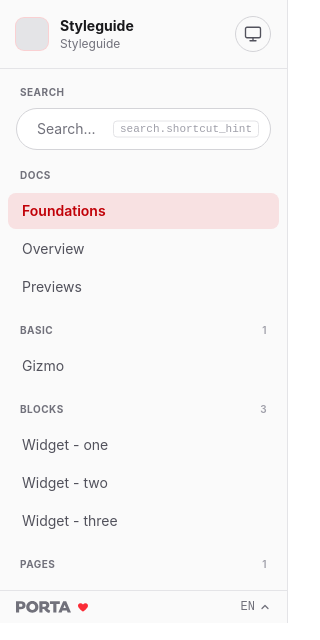
Test: Sidebar — locale switcher › lists every discovered locale by name, not just the chrome-only cs/en set
Click the button with test id "locale-trigger": (256, 607) [241, 599, 271, 615]
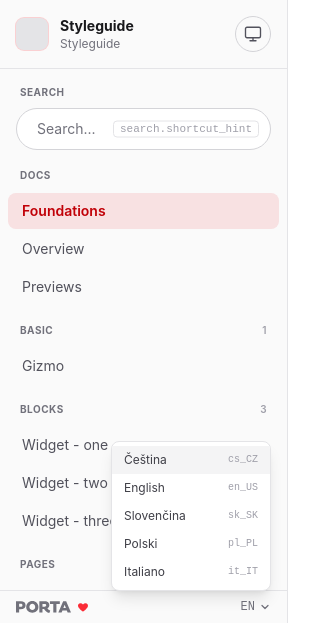
Expected: the text with test id "locale-name" reads "Čeština", [124, 452, 167, 467]
Expected: the text with test id "locale-name" reads "English", [124, 480, 165, 495]
Expected: the text with test id "locale-name" reads "Slovenčina", [124, 508, 186, 523]
